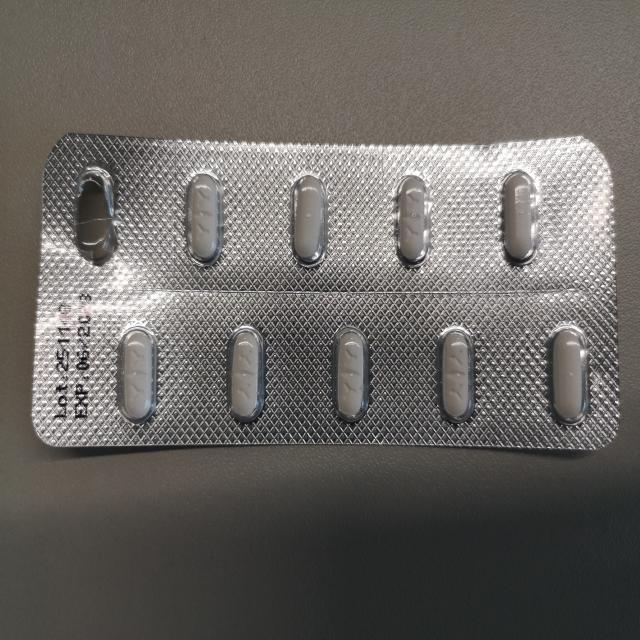Empty: (70, 160, 120, 267)
Pill: (542, 319, 597, 433), (429, 318, 484, 429), (220, 321, 273, 428), (494, 166, 547, 271), (112, 320, 162, 430), (282, 170, 334, 273), (180, 168, 230, 275), (327, 322, 374, 429), (390, 167, 432, 271)
